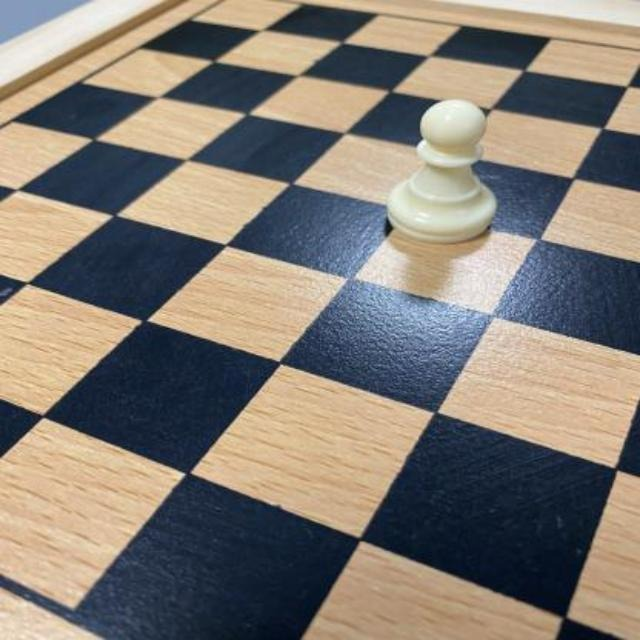white-pawn: (390, 98, 502, 244)
